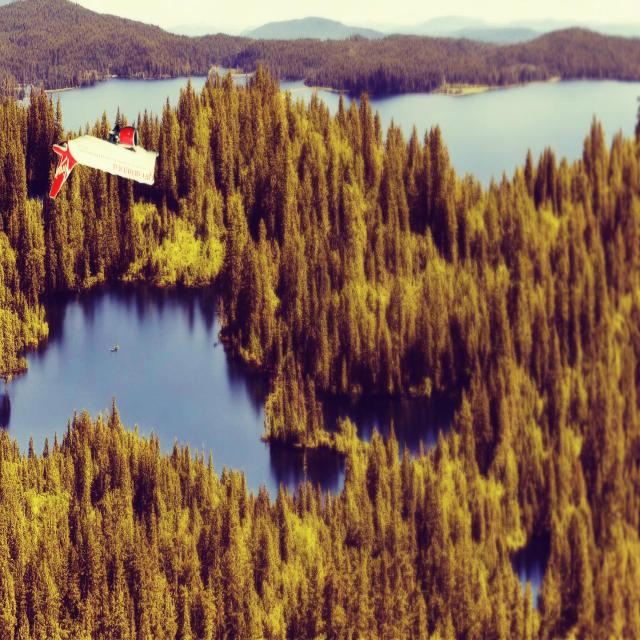airplane: (49, 123, 159, 199)
